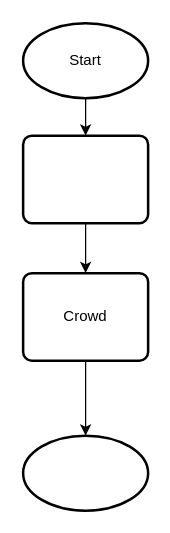
The diagram is 170 pixels wide and 533 high, and some of its shapes have lost their labels. The shapes that lost their labels are listed below. From the top down, each one's box as (x1, y1, x2, y2) in pixels, then its label:
(21, 134, 149, 224): Authorization
(21, 434, 149, 511): End
